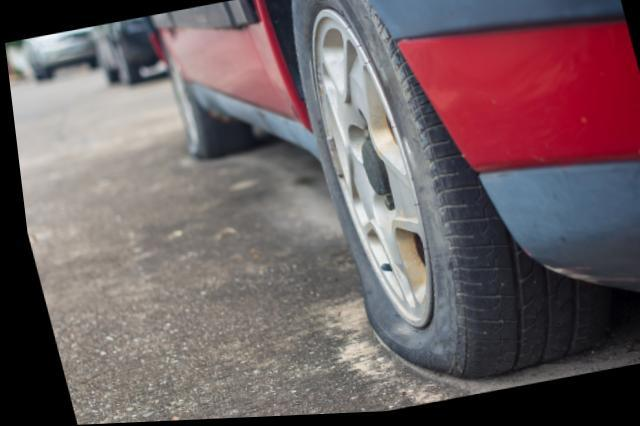tire flat: (290, 0, 596, 384)
